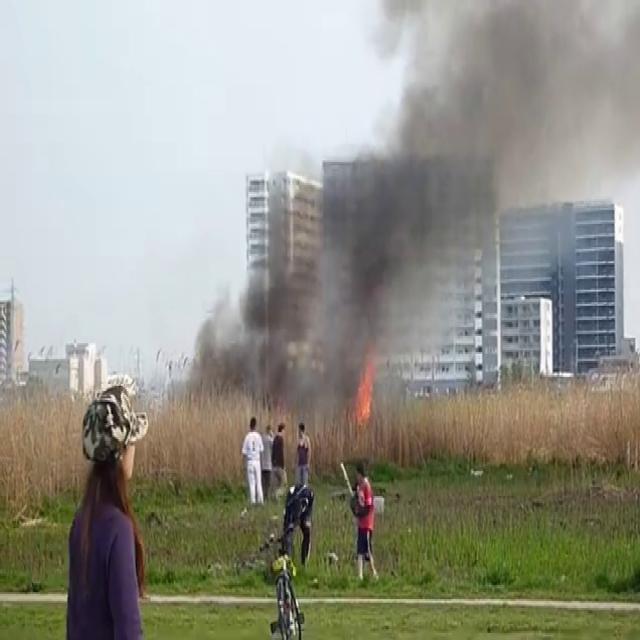Fire: (349, 348, 382, 434)
Smoke: (226, 0, 639, 405)
